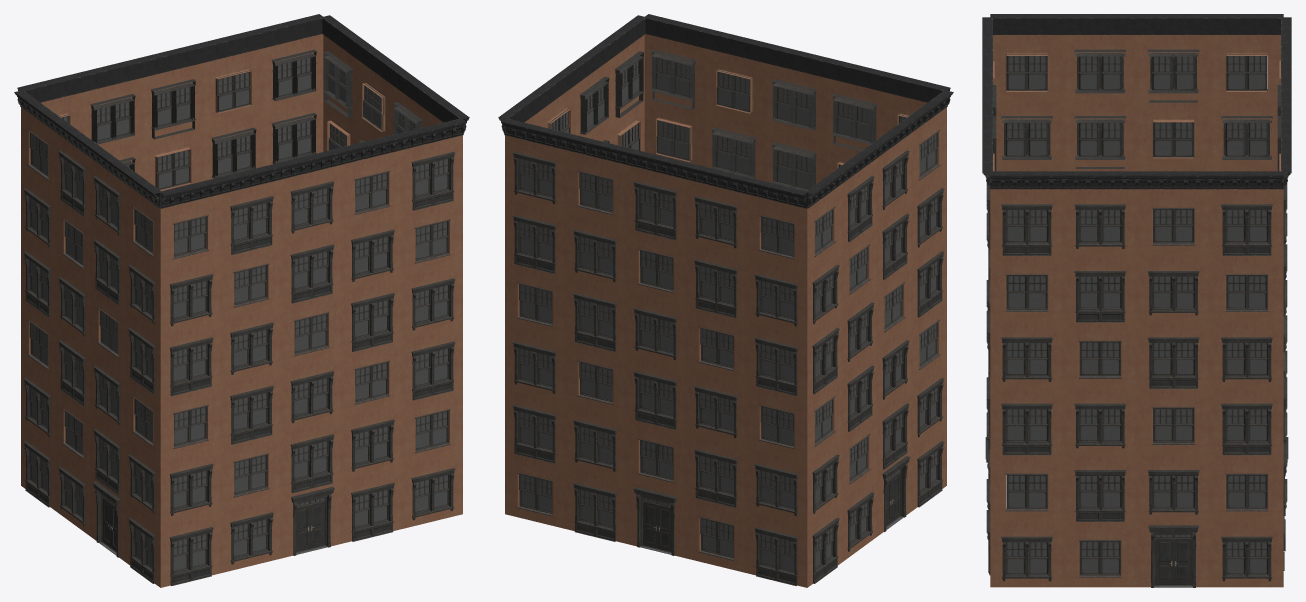
Rendered from alley-apartments.glb.
The picture shows the model from 3 angles, left to right: view 1: azimuth 30°, elevation 25°; view 2: azimuth 150°, elevation 25°; view 3: azimuth 270°, elevation 25°; orthographic projection. The views are drawn at different scales.
Visible parts, largest first — view 1: wall_window_centered_large_01, window_centered_large_01, crown_standard_standard_01, window_centered_large_03; view 2: wall_window_centered_large_01, window_centered_large_01, crown_standard_standard_01, window_centered_large_03; view 3: wall_window_centered_large_01, window_centered_large_01, crown_standard_standard_01, window_centered_large_03.
Part boxes in pixels (x1,y1,x2,y2): wall_window_centered_large_01: (21,34,462,587); window_centered_large_01: (23,49,455,585); crown_standard_standard_01: (14,14,469,208); window_centered_large_03: (27,69,450,497); wall_window_centered_large_01: (505,34,946,587); window_centered_large_01: (512,49,944,585); crown_standard_standard_01: (498,14,953,208); window_centered_large_03: (517,69,940,560); wall_window_centered_large_01: (990,35,1283,587); window_centered_large_01: (985,49,1288,587); crown_standard_standard_01: (982,14,1291,189); window_centered_large_03: (989,54,1284,577).
Bounding box in the file's own units: 15.66 × 18.75 × 12.66.
5 materials, 5 textured.
